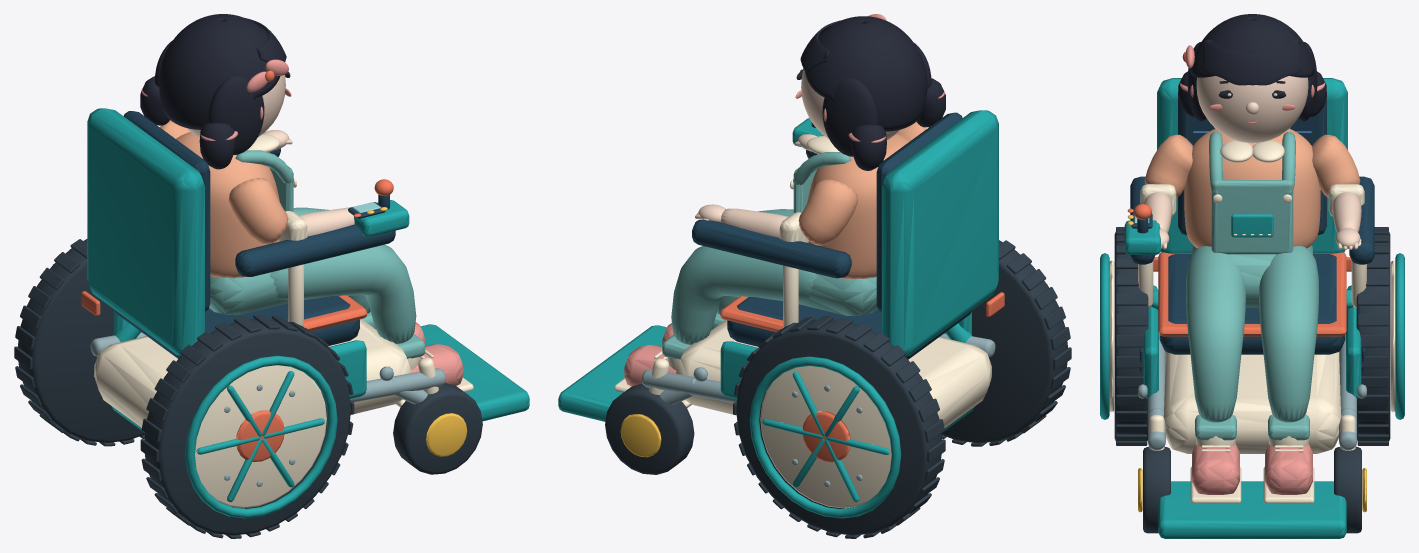
Rendered from Hero.fbx.
The picture shows the model from 3 angles, left to right: view 1: azimuth 30°, elevation 25°; view 2: azimuth 150°, elevation 25°; view 3: azimuth 270°, elevation 25°; orthographic projection. The views are drawn at different scales.
Parts seen in each view (by area): view 1: GEO-Body, GEO-WheelRearL, GEO-Head.001, GEO-WheelRearR, GEO-Torso, GEO-Legs, GEO-WheelFrontL, GEO-Hands; view 2: GEO-Body, GEO-WheelRearR, GEO-Head.001, GEO-WheelRearL, GEO-Torso, GEO-Legs, GEO-WheelFrontR, GEO-Hands; view 3: GEO-Body, GEO-Legs, GEO-Torso, GEO-Head.001, GEO-WheelRearR, GEO-WheelRearL, GEO-Hands, GEO-WheelFrontL, GEO-WheelFrontR.
Boxes of the visible parts, left/top/right/bottom form: GEO-Body: left=81, top=108, right=529, bottom=432; GEO-WheelRearL: left=140, top=314, right=354, bottom=538; GEO-Head.001: left=140, top=14, right=291, bottom=169; GEO-WheelRearR: left=14, top=239, right=144, bottom=446; GEO-Torso: left=160, top=120, right=307, bottom=314; GEO-Legs: left=270, top=207, right=473, bottom=407; GEO-WheelFrontL: left=393, top=383, right=482, bottom=474; GEO-Hands: left=263, top=130, right=354, bottom=236; GEO-Body: left=558, top=110, right=1004, bottom=432; GEO-WheelRearR: left=733, top=315, right=945, bottom=538; GEO-Head.001: left=795, top=14, right=945, bottom=170; GEO-WheelRearL: left=941, top=240, right=1071, bottom=446; GEO-Torso: left=779, top=121, right=926, bottom=315; GEO-Legs: left=614, top=209, right=816, bottom=407; GEO-WheelFrontR: left=605, top=383, right=694, bottom=474; GEO-Hands: left=695, top=134, right=816, bottom=237; GEO-Body: left=1124, top=78, right=1374, bottom=538; GEO-Legs: left=1186, top=246, right=1318, bottom=503; GEO-Torso: left=1140, top=128, right=1364, bottom=307; GEO-Head.001: left=1178, top=14, right=1326, bottom=142; GEO-WheelRearR: left=1356, top=227, right=1404, bottom=445; GEO-WheelRearL: left=1100, top=227, right=1148, bottom=445; GEO-Hands: left=1144, top=192, right=1361, bottom=249; GEO-WheelFrontL: left=1138, top=447, right=1170, bottom=533; GEO-WheelFrontR: left=1334, top=447, right=1366, bottom=533.
Bounding box in the file's own units: 1.56 × 1.71 × 1.08.
